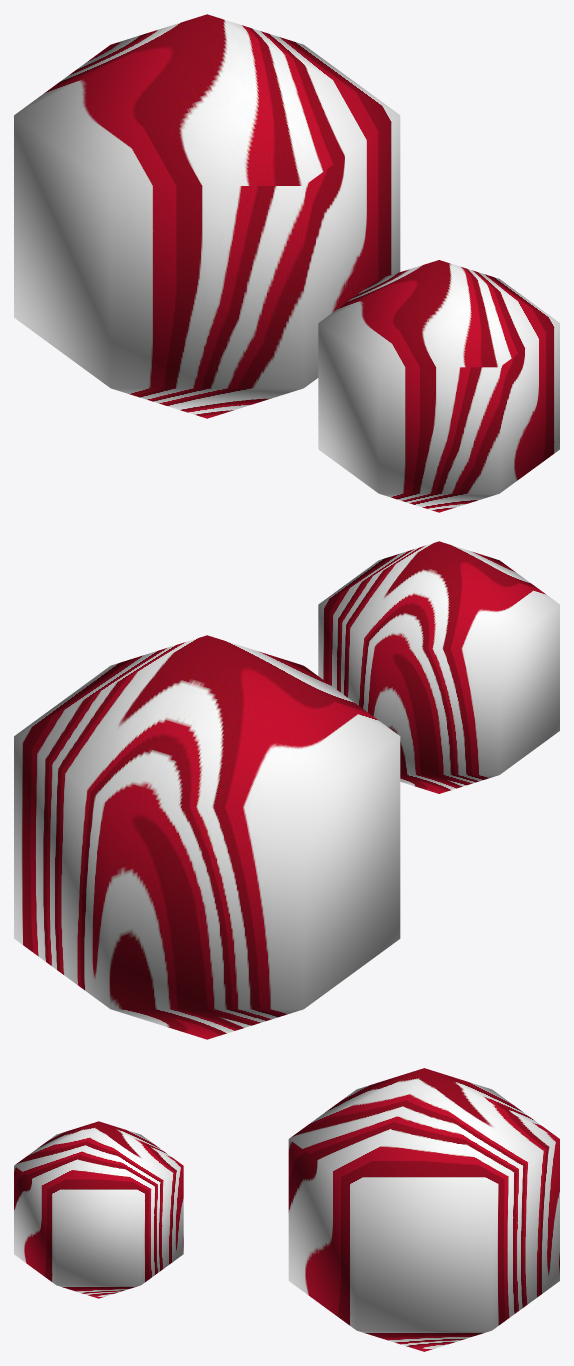
Rendered from roostermarble_selection.DAE.
3 renders of one model, top to bottom at view 1: azimuth 30°, elevation 25°; view 2: azimuth 150°, elevation 25°; view 3: azimuth 270°, elevation 25°, orthographic. The views are drawn at different scales.
Parts seen in each view (by area): view 1: Shooter_B, Standard_B; view 2: Shooter_B, Standard_B; view 3: Shooter_B, Standard_B.
Part boxes in pixels (x1,y1,x2,y2): Shooter_B: (14,14,400,418); Standard_B: (318,260,559,512); Shooter_B: (14,635,400,1039); Standard_B: (318,541,559,793); Shooter_B: (288,1068,559,1351); Standard_B: (14,1121,183,1298).
Bounding box in the file's own units: 0.0381 × 0.0886 × 0.0508.
1 material, 1 textured.
